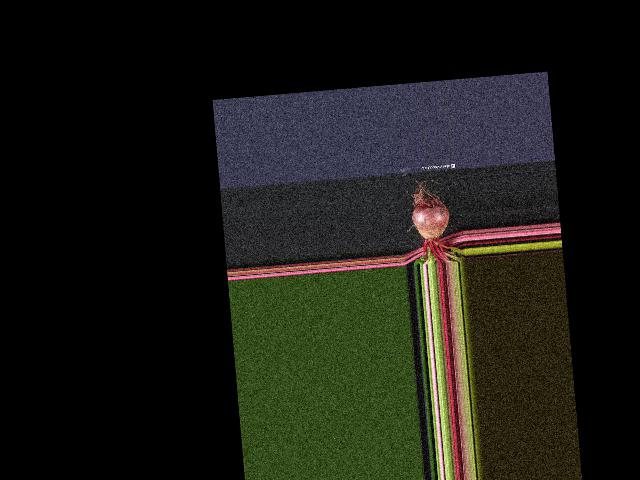beet: (408, 173, 465, 265)
